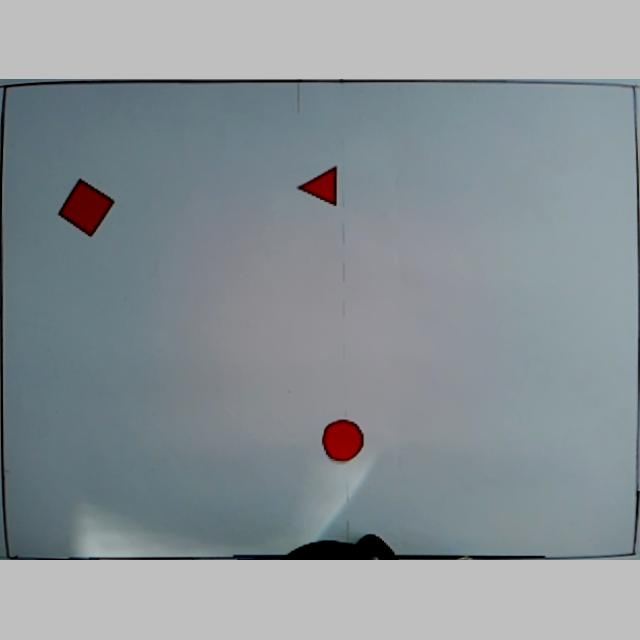redCircle: (320, 419, 364, 466)
redSquare: (56, 180, 116, 240)
redTriangle: (298, 168, 340, 208)
